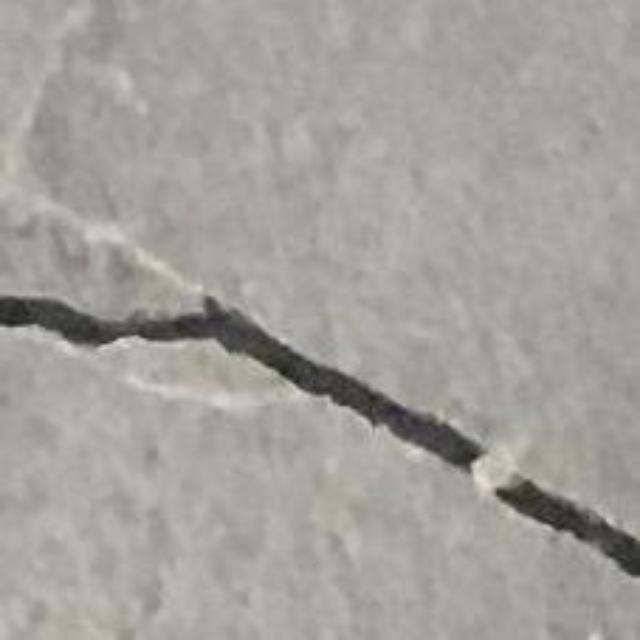crack: (0, 294, 490, 476)
